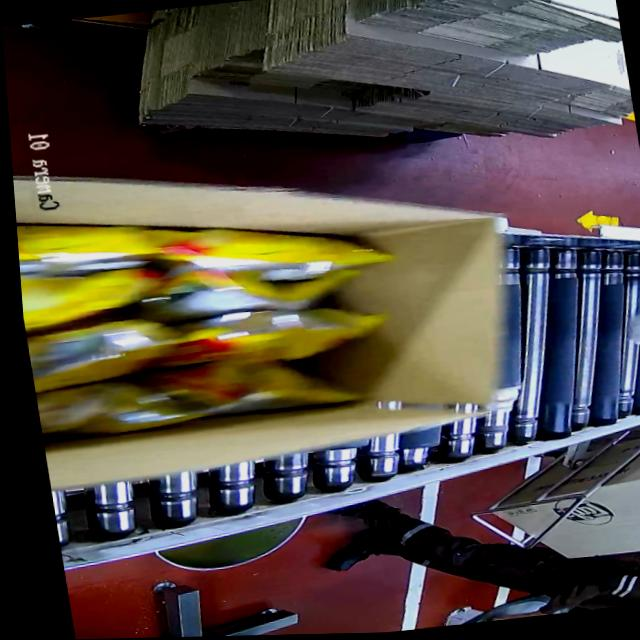SALTED: (15, 194, 412, 449)
